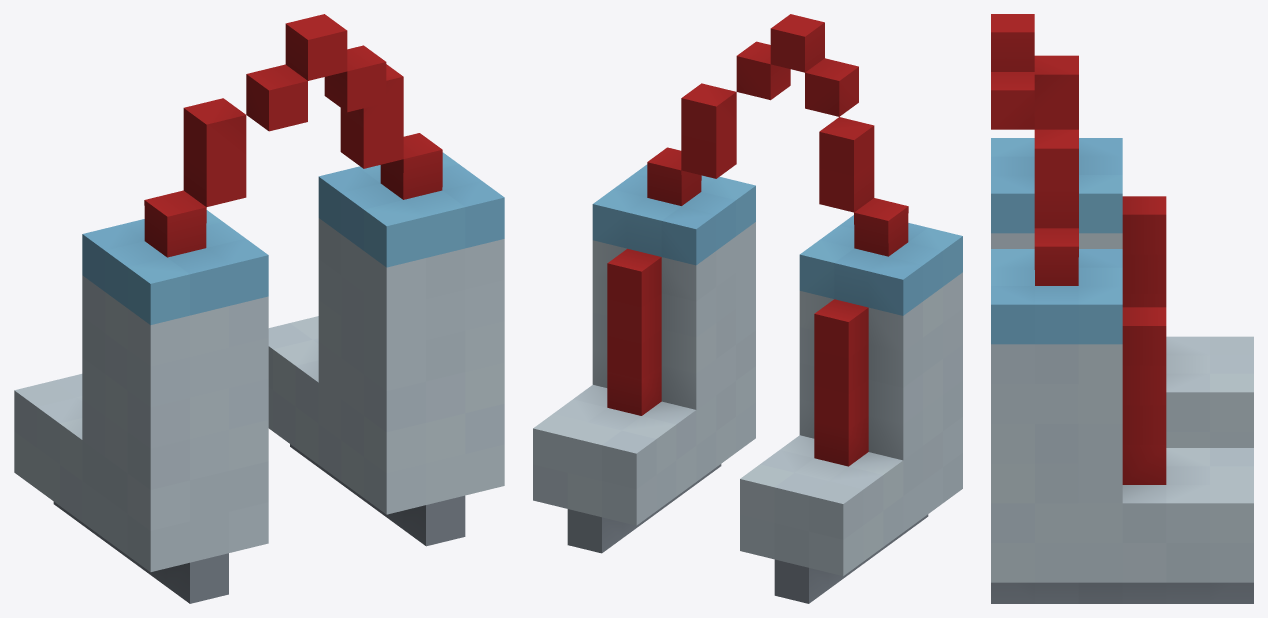
File: back_skates.glb
3 renders of one model, left to right at view 1: azimuth 30°, elevation 25°; view 2: azimuth 150°, elevation 25°; view 3: azimuth 270°, elevation 25°, orthographic. The views are drawn at different scales.
Parts seen in each view (by area): view 1: Back; view 2: Back; view 3: Back.
Boxes of the visible parts, left/top/right/bottom form: Back: left=14, top=14, right=504, bottom=603; Back: left=533, top=14, right=962, bottom=603; Back: left=991, top=14, right=1253, bottom=603.
Size of the model in its own units: 0.9902 by 1.43 by 0.6602.
